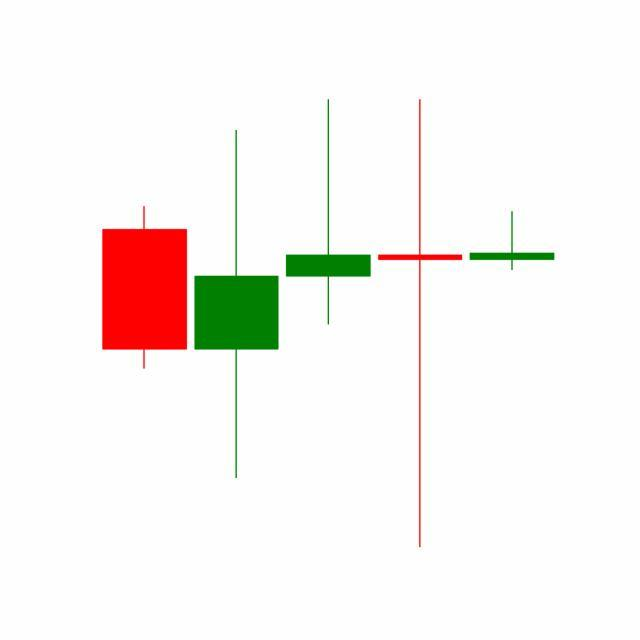Gravestone Doji: (466, 211, 559, 272)
